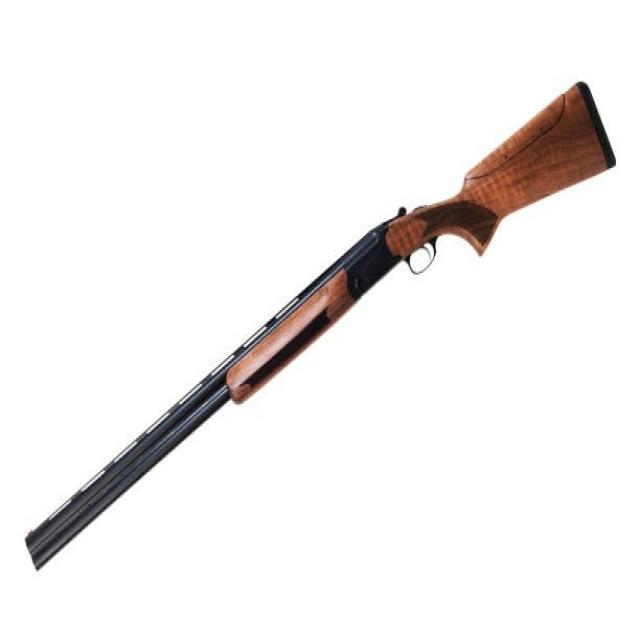rifle: (19, 73, 620, 579)
